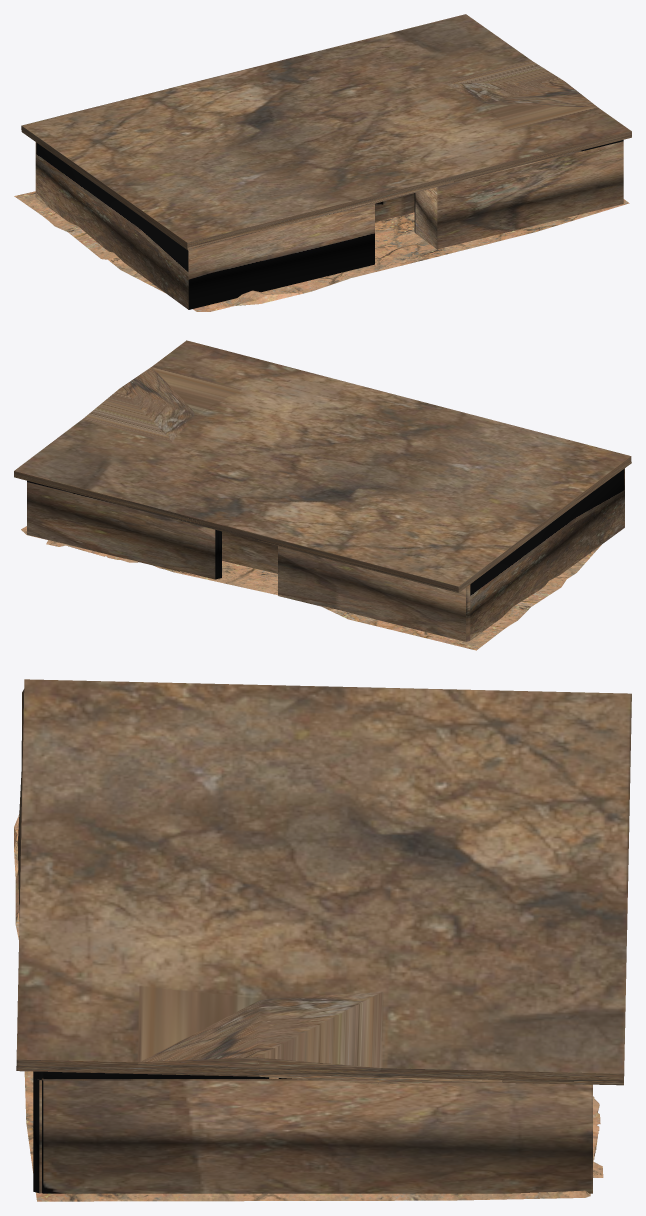
File: rock maze dungeon.fbx
The picture shows the model from 3 angles, top to bottom: view 1: azimuth 30°, elevation 25°; view 2: azimuth 150°, elevation 25°; view 3: azimuth 270°, elevation 25°; orthographic projection. The views are drawn at different scales.
Parts seen in each view (by area): view 1: Cube, Curve.021, Plane; view 2: Cube, Curve.021, Plane; view 3: Cube, Curve.021, Plane.
Boxes of the visible parts, box(x1,y1,x2,y2) form: Cube: box(21, 14, 631, 250); Curve.021: box(35, 140, 623, 309); Plane: box(14, 191, 629, 311); Cube: box(14, 340, 631, 592); Curve.021: box(27, 468, 624, 641); Plane: box(21, 526, 601, 650); Cube: box(16, 679, 631, 1085); Curve.021: box(33, 1071, 592, 1193); Plane: box(14, 814, 603, 1201).
Bounding box in the file's own units: 977 × 169 × 631.
